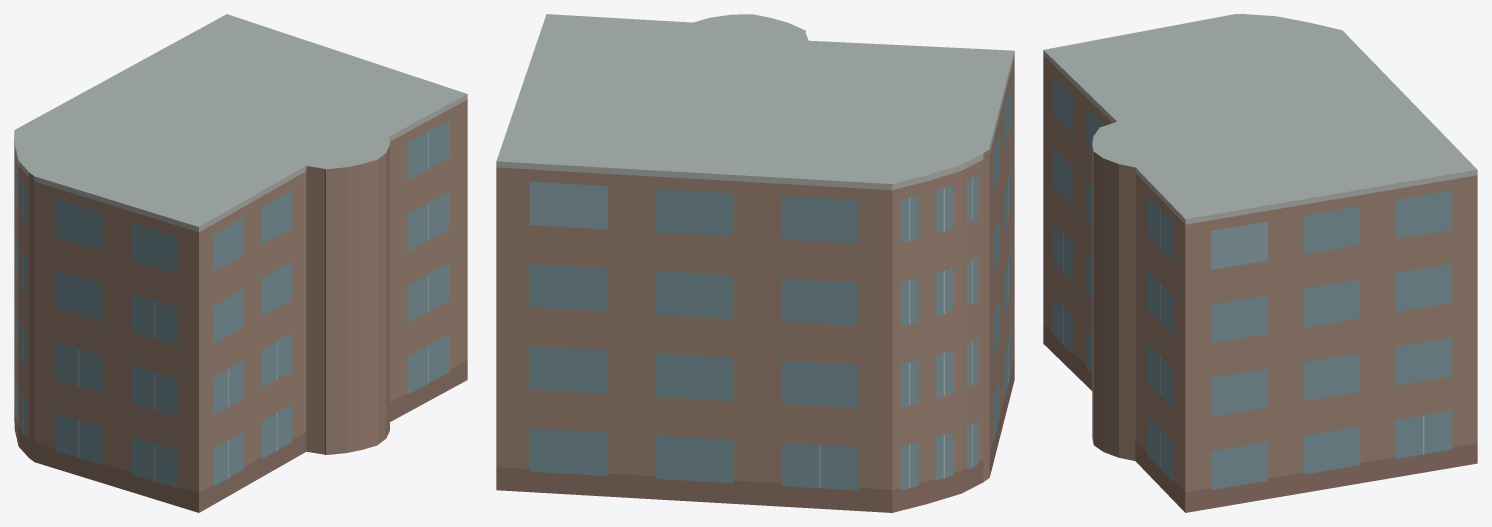
Rendered from survey-upis-33035495.glb.
3 views of the same model, side by side, from view 1: azimuth 30°, elevation 25°; view 2: azimuth 150°, elevation 25°; view 3: azimuth 270°, elevation 25° (orthographic). The views are drawn at different scales.
Visible parts, largest first — view 1: survey-upis-33035495.tmp; view 2: survey-upis-33035495.tmp; view 3: survey-upis-33035495.tmp.
Part boxes in pixels (<box>): survey-upis-33035495.tmp: <box>14,14,467,512</box>; survey-upis-33035495.tmp: <box>496,14,1014,512</box>; survey-upis-33035495.tmp: <box>1043,14,1477,512</box>.
Size of the model in its own units: 19.75 by 13.17 by 17.66.
